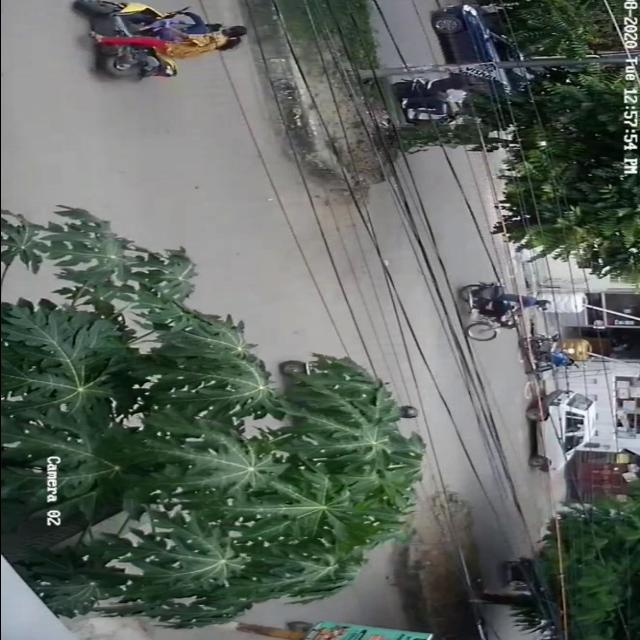accident: (64, 0, 252, 88)
